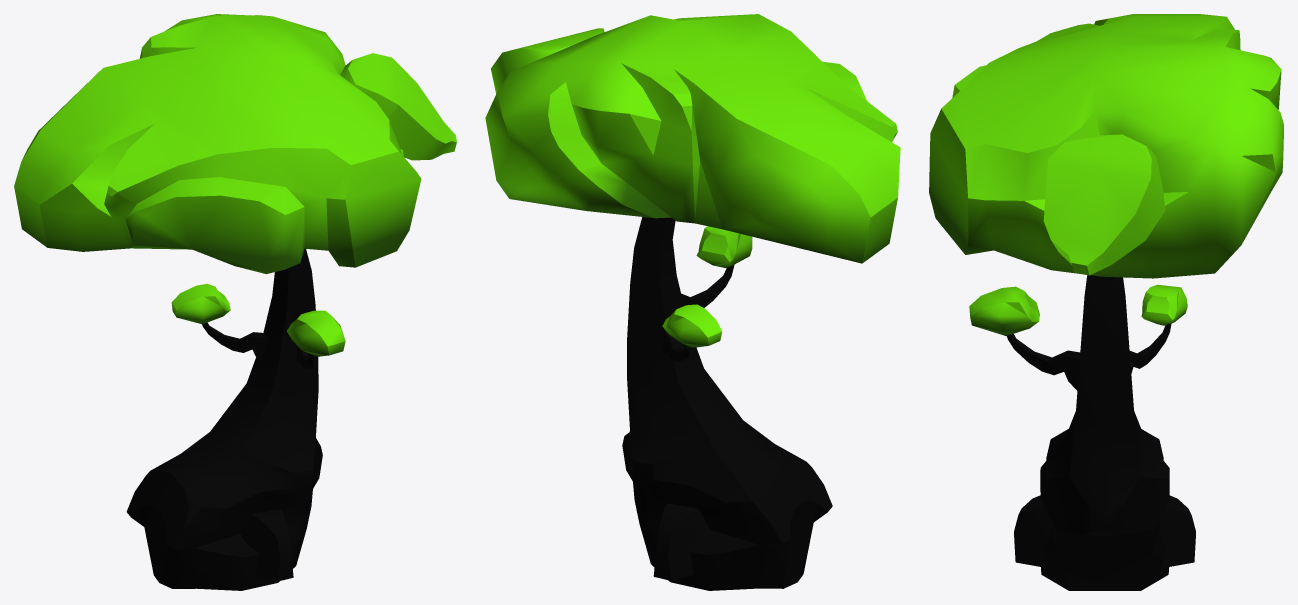
Rendered from FOL_Foliage_01.FBX.
3 renders of one model, left to right at view 1: azimuth 30°, elevation 25°; view 2: azimuth 150°, elevation 25°; view 3: azimuth 270°, elevation 25°, orthographic. The views are drawn at different scales.
Visible parts, largest first — view 1: FOL_Foliage_01; view 2: FOL_Foliage_01; view 3: FOL_Foliage_01.
Boxes of the visible parts, box(x1,y1,x2,y2) form: FOL_Foliage_01: box(14, 14, 456, 590); FOL_Foliage_01: box(485, 14, 900, 590); FOL_Foliage_01: box(929, 14, 1283, 590).
Bounding box in the file's own units: 0.0974 × 0.1629 × 0.135.
